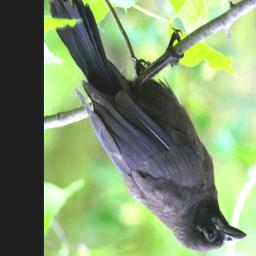Crow: (47, 0, 247, 254)
